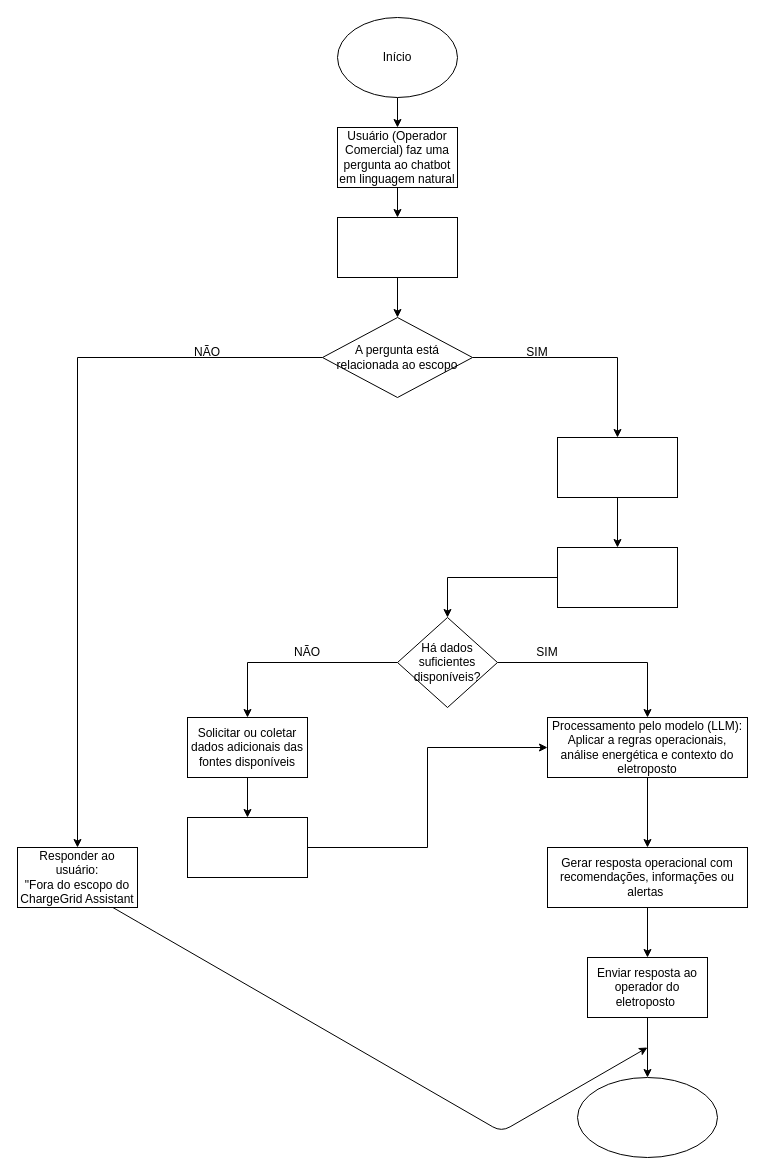
Some shapes in this 765 by 1175 pixel diagram are drawn without their labels. Here are the shapes that lost their labels. From the top down, the box of each, then its label:
(336, 216, 458, 278): Chatbot recebe a mensagem e verifica o escopo da pergunta
(556, 436, 678, 498): Classificar o tipo de pergunta (intenção do usuário)
(556, 546, 678, 608): Identificar os dados e informações necessários para responder
(186, 816, 308, 878): Consultar fontes de dados de eletroposto
(576, 1076, 718, 1158): FIm
